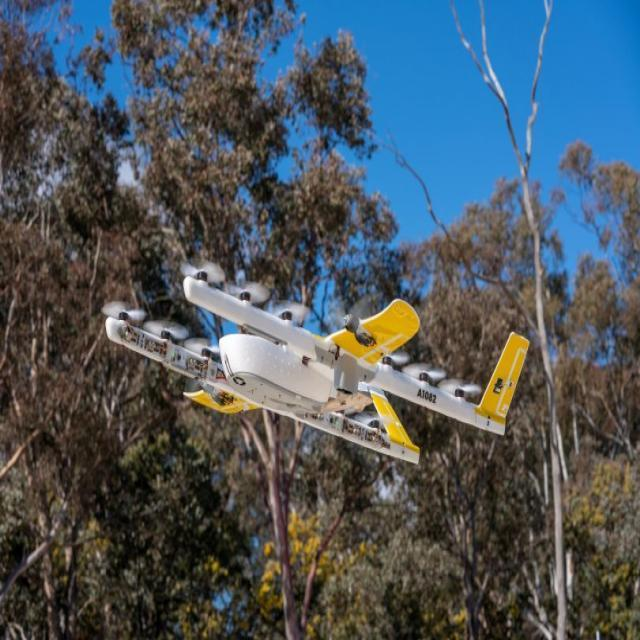iha: (98, 255, 533, 475)
